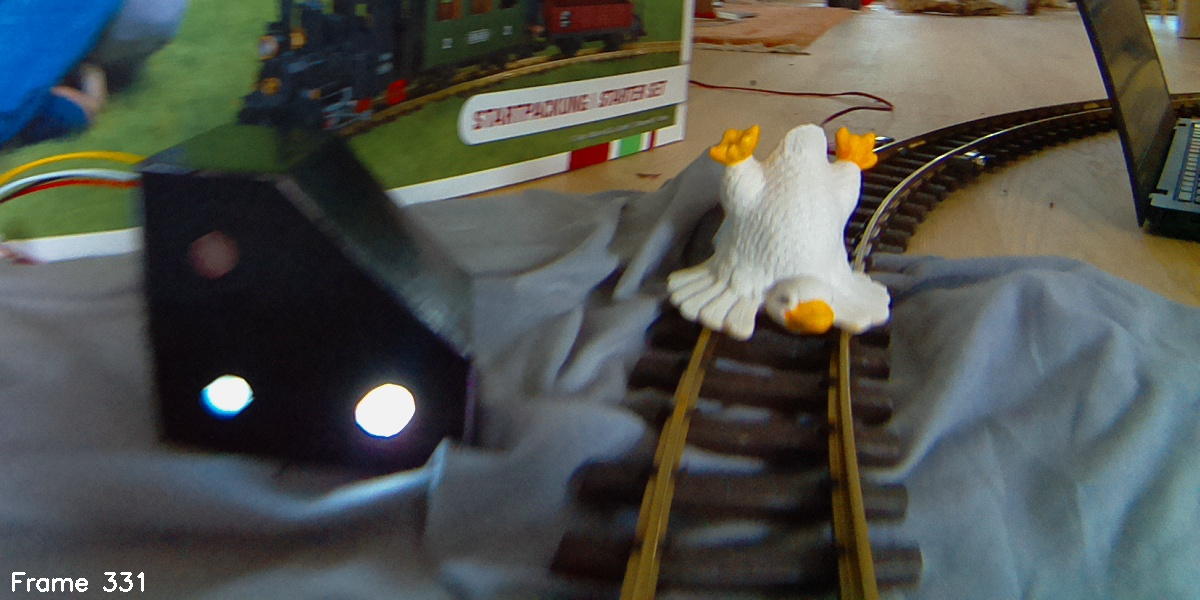Halt: (143, 120, 467, 467)
